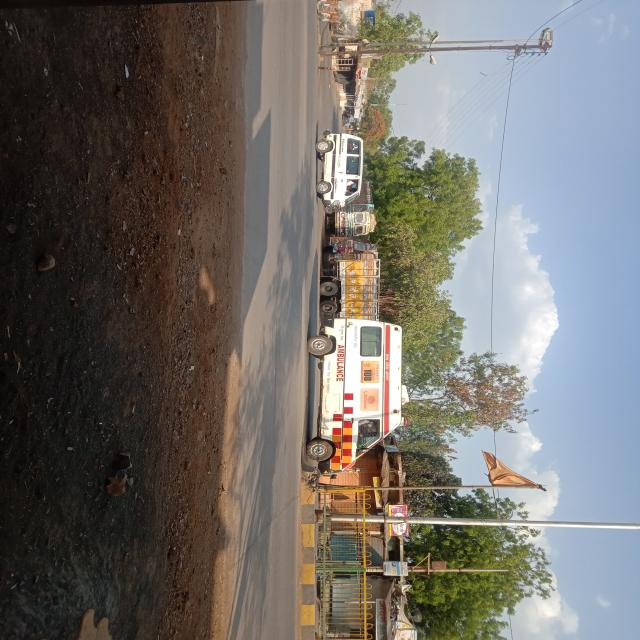Car: (317, 132, 363, 210)
Truck: (320, 182, 380, 326)
